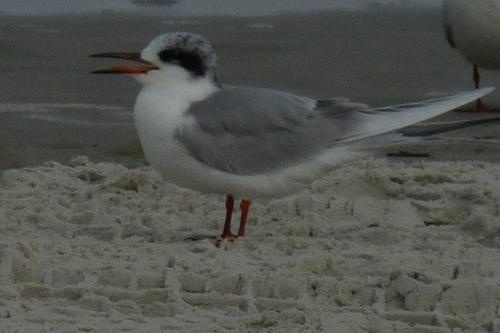bird: (84, 31, 500, 236)
